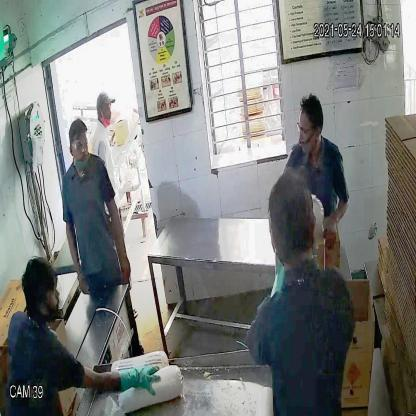goggles: (67, 138, 90, 154)
